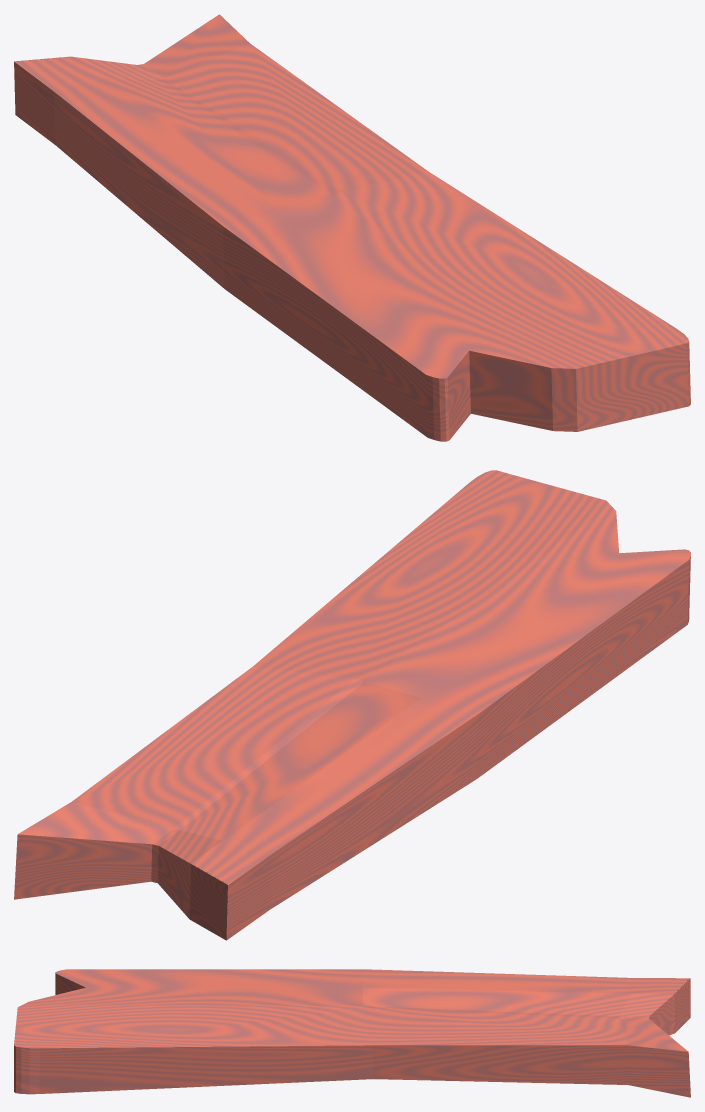
Rendered from Plank.glb.
3 renders of one model, top to bottom at view 1: azimuth 30°, elevation 25°; view 2: azimuth 150°, elevation 25°; view 3: azimuth 270°, elevation 25°, orthographic. The views are drawn at different scales.
Parts seen in each view (by area): view 1: Cube; view 2: Cube; view 3: Cube.
Part boxes in pixels (<box>): Cube: <box>14,14,690,441</box>; Cube: <box>14,470,690,940</box>; Cube: <box>14,969,690,1097</box>.
Bounding box in the file's own units: 0.6158 × 0.185 × 2.14.
1 material, 1 textured.
